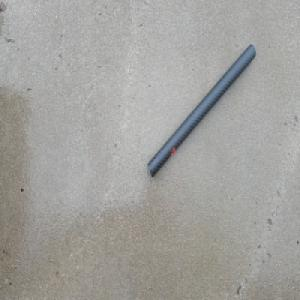LuggagePart: (146, 43, 255, 181)
